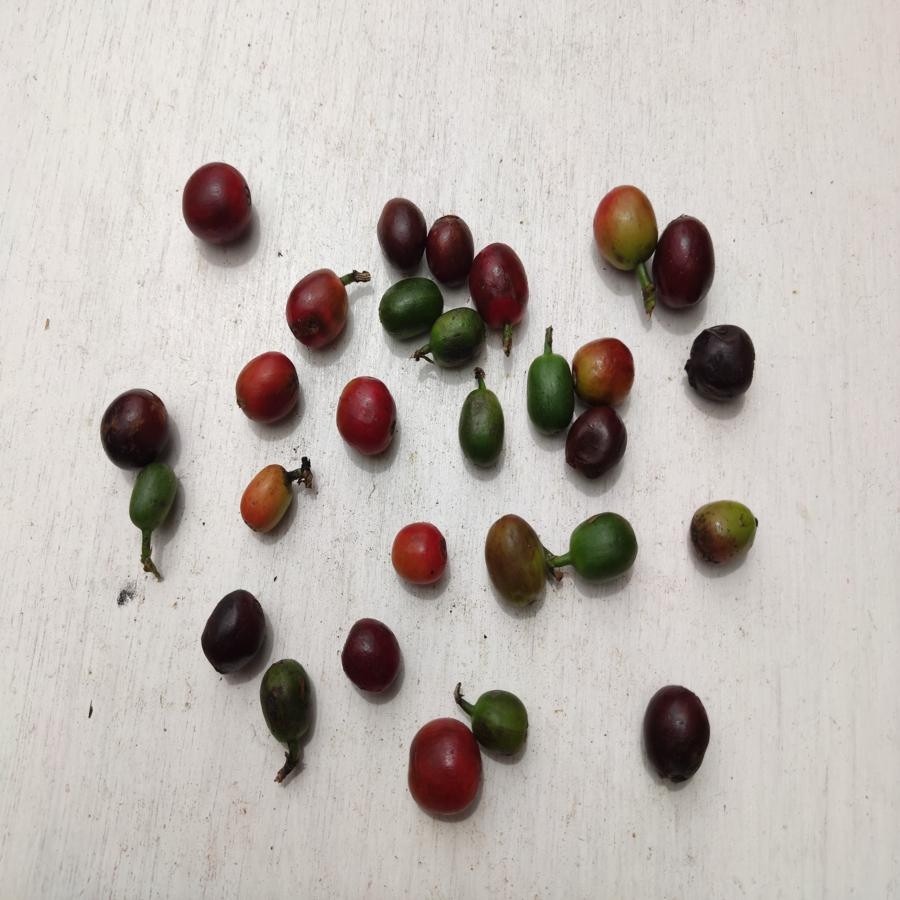Inmaduro: (258, 660, 320, 752), (569, 512, 642, 585), (459, 381, 508, 469), (517, 347, 568, 429), (125, 471, 182, 541), (474, 689, 534, 753), (381, 277, 437, 343), (433, 308, 483, 367)
Maduro: (400, 717, 477, 822), (284, 269, 352, 353), (233, 351, 307, 425), (334, 375, 401, 456)
Pinton: (482, 512, 551, 611), (592, 185, 659, 274), (685, 498, 767, 565), (388, 517, 449, 592), (237, 462, 295, 537), (572, 339, 636, 404)
Sobremaduro: (177, 161, 263, 250), (640, 683, 712, 785), (685, 321, 758, 404), (99, 384, 169, 468), (198, 587, 262, 675), (658, 215, 717, 310), (561, 406, 634, 480), (338, 617, 407, 695), (473, 243, 532, 325), (373, 195, 430, 273), (428, 213, 474, 289)
